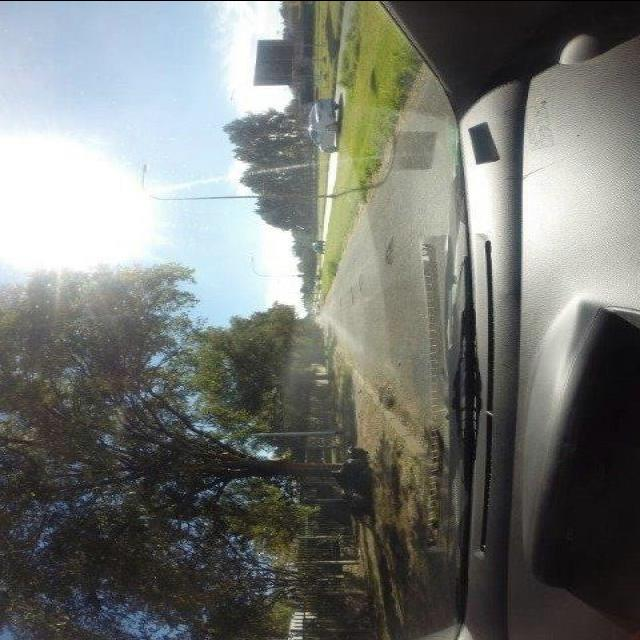lubang: (377, 236, 395, 265)
